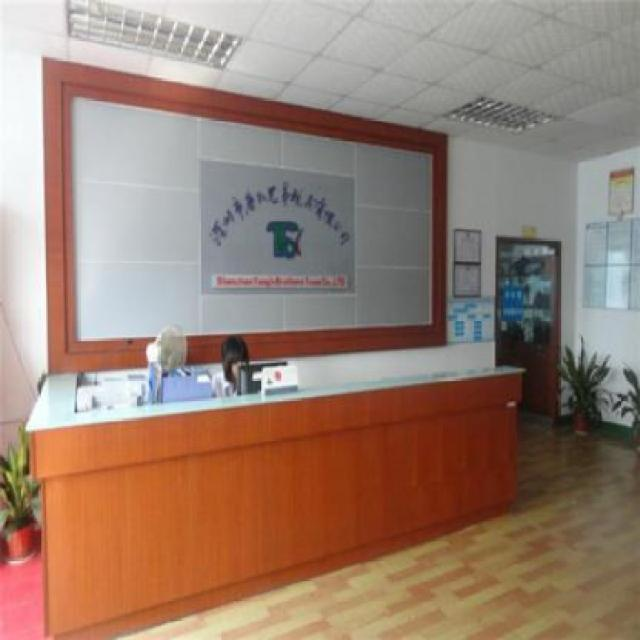frontdesk: (14, 340, 531, 639)
